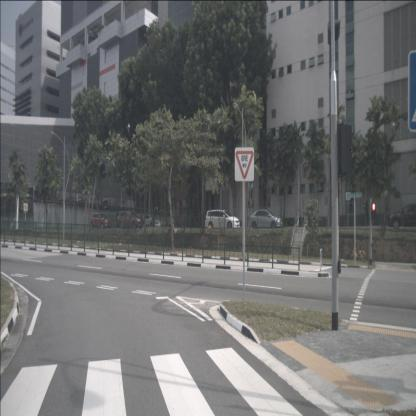vehicle-car: (388, 203, 416, 230), (205, 210, 240, 230), (249, 209, 282, 230), (117, 210, 145, 230), (90, 212, 112, 230), (102, 213, 121, 228), (137, 214, 153, 227), (148, 220, 164, 230)
